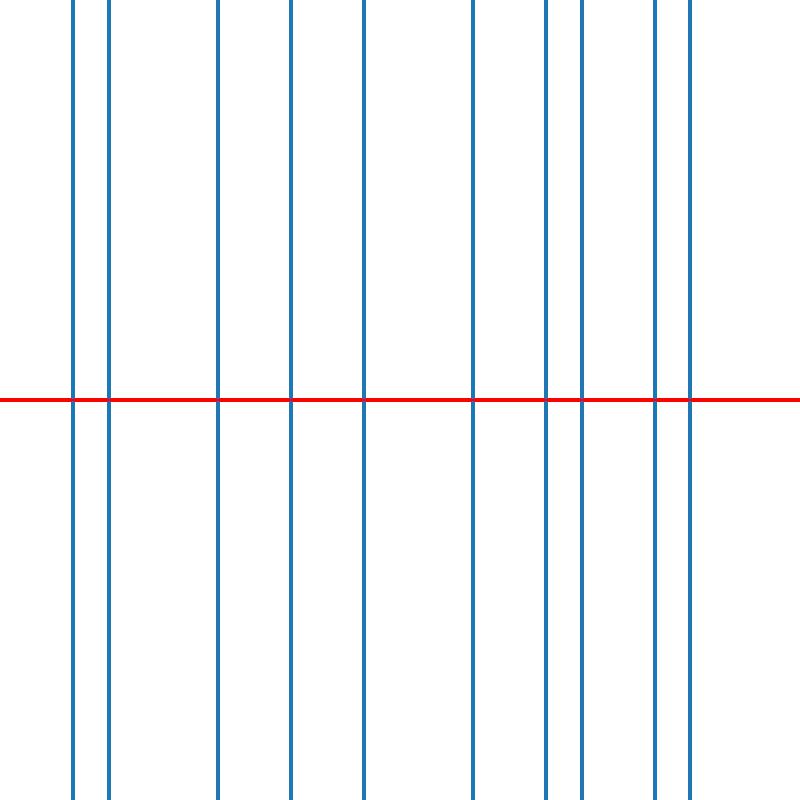root: (650, 396, 658, 404), (541, 396, 549, 404), (578, 396, 585, 404), (469, 396, 476, 404), (105, 396, 112, 404), (214, 396, 221, 404), (360, 396, 367, 404), (687, 396, 694, 404), (287, 396, 294, 404), (69, 396, 76, 404)
